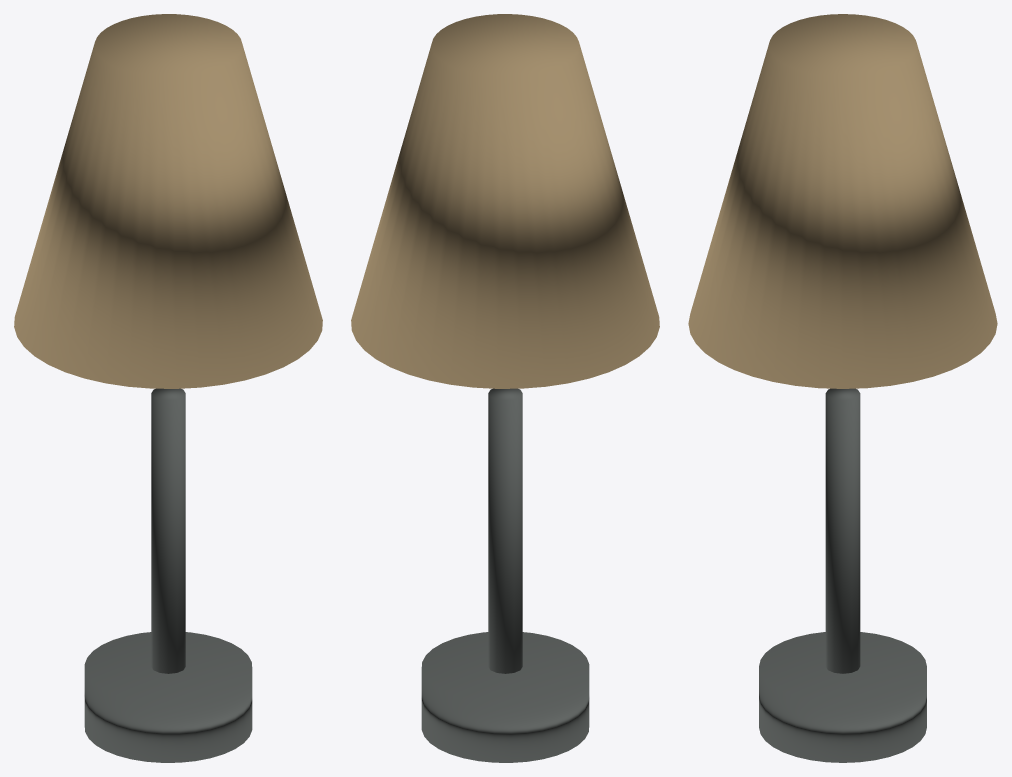
File: consola-mem-oria.glb
3 views of the same model, side by side, from view 1: azimuth 30°, elevation 25°; view 2: azimuth 150°, elevation 25°; view 3: azimuth 270°, elevation 25° (orthographic).
Visible parts, largest first — view 1: Abat-jour, Base, Haste; view 2: Abat-jour, Base, Haste; view 3: Abat-jour, Base, Haste.
Boxes of the visible parts, x1,y1,x2,y2 form: Abat-jour: [14, 14, 322, 388]; Base: [84, 632, 252, 762]; Haste: [151, 388, 185, 673]; Abat-jour: [351, 14, 659, 388]; Base: [421, 632, 589, 762]; Haste: [488, 388, 522, 673]; Abat-jour: [688, 14, 997, 388]; Base: [759, 632, 926, 762]; Haste: [825, 388, 860, 673].
Size of the model in its own units: 0.322 by 0.784 by 0.322.
